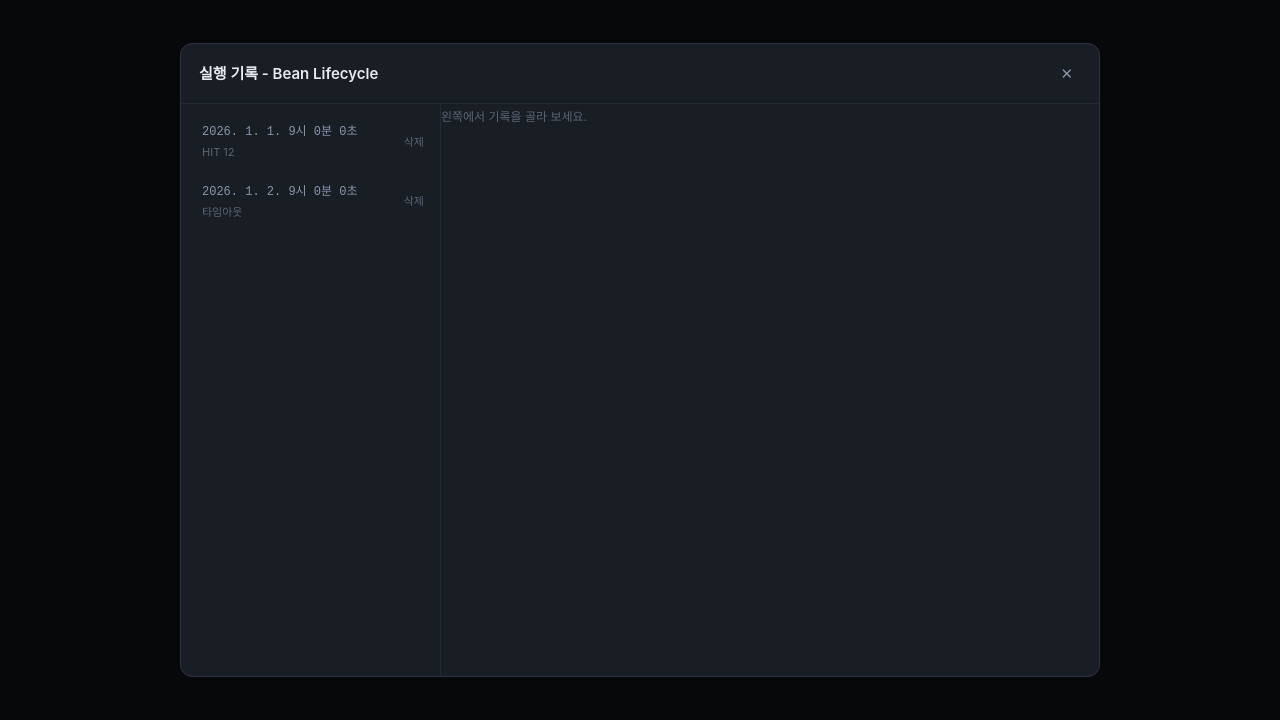
Test: RunHistoryModal › exports the selected run to a doc skeleton and copies it to the clipboard
Click the text "HIT 12".
click(218, 152)  # box [202,144,234,161]
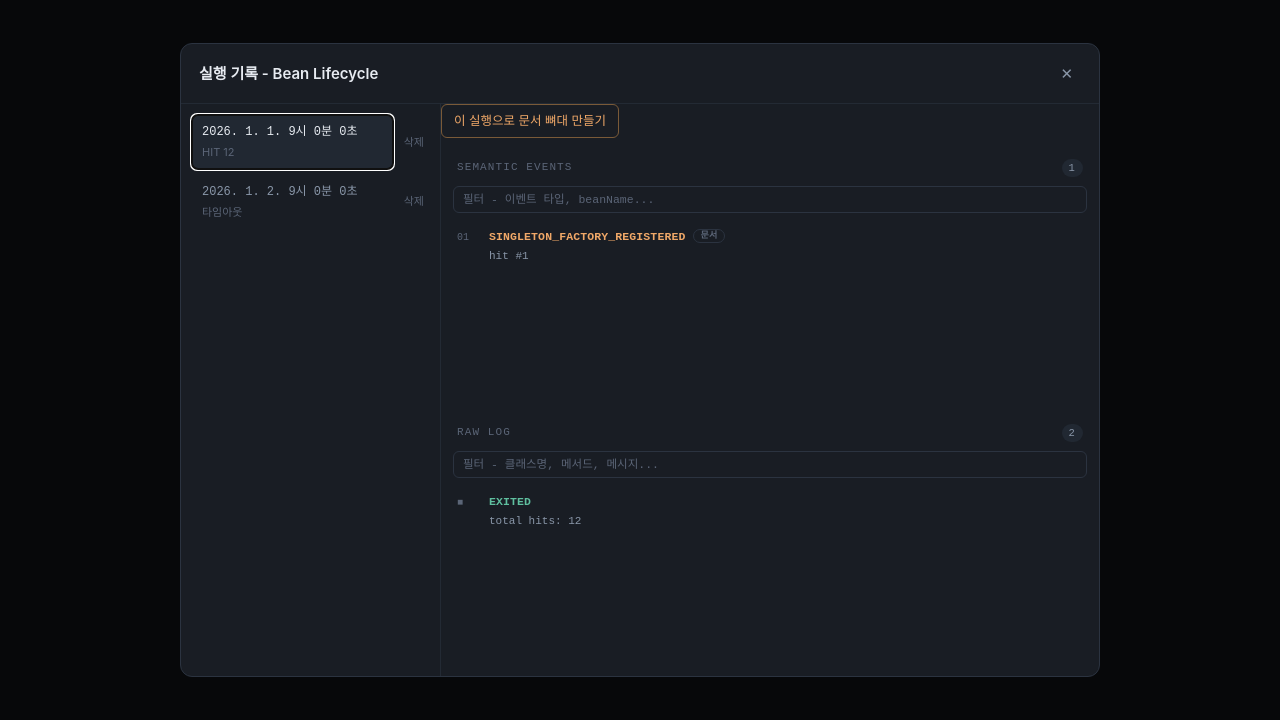
Expected: the text "SINGLETON_FACTORY_REGISTERED" is shown, [489,230,686,243]
Click the button "이 실행으로 문서 뼈대 만들기".
click(530, 121)  # box [441,104,619,138]
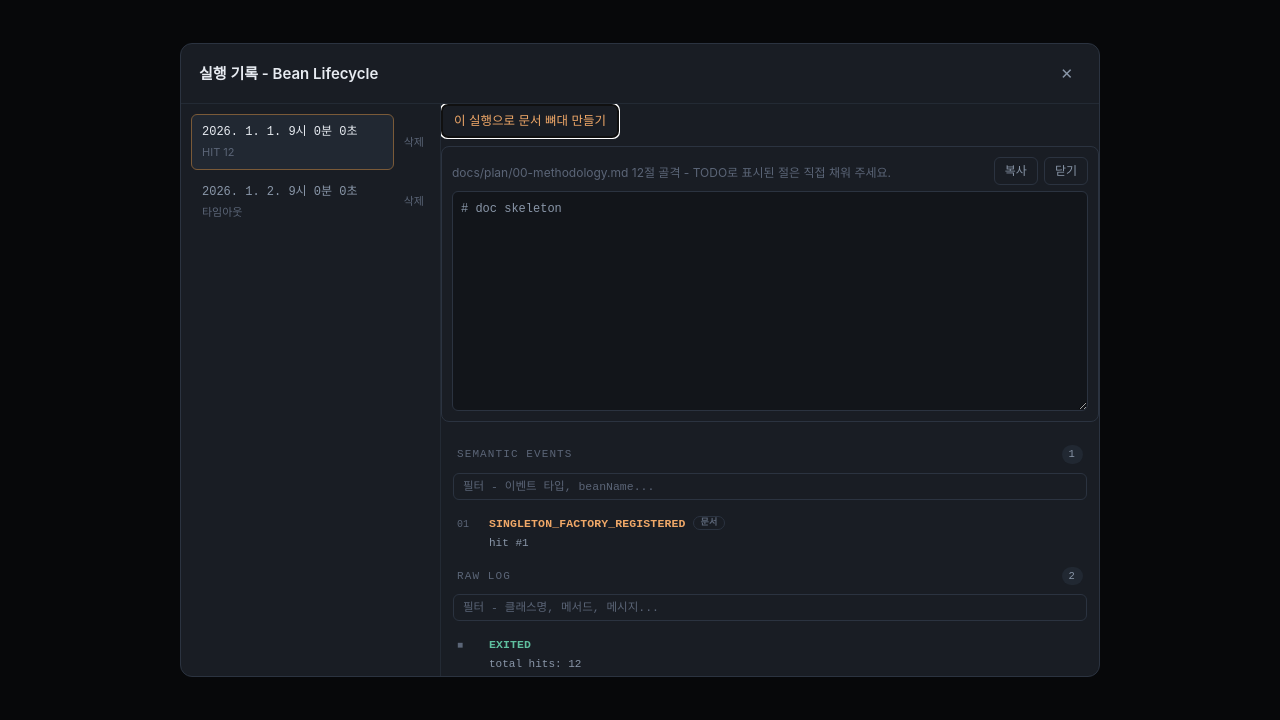
Expected: the text box showing "# doc skeleton" is shown, [452,191,1088,411]
Click the button "복사".
click(1016, 171)  # box [994,157,1038,185]
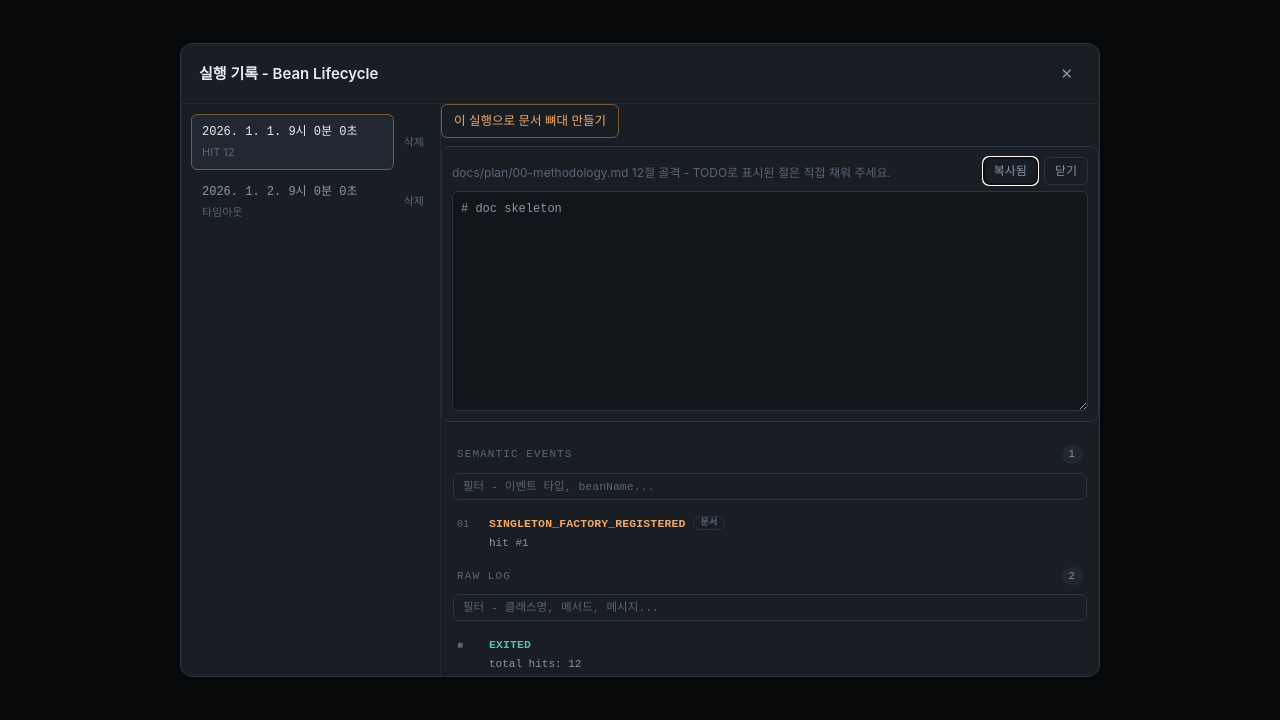
Expected: the button "복사됨" is shown, [983,157,1038,185]
